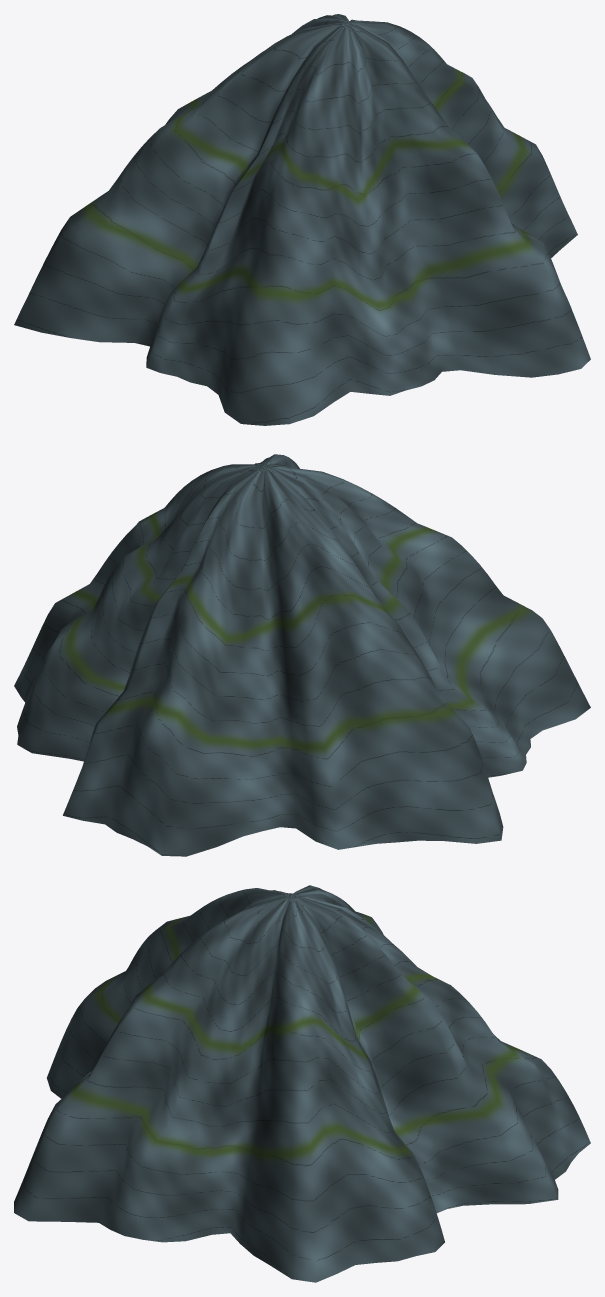
The model's file is terraced_mountain.glb.
The picture shows the model from 3 angles, top to bottom: view 1: azimuth 30°, elevation 25°; view 2: azimuth 150°, elevation 25°; view 3: azimuth 270°, elevation 25°; orthographic projection.
Visible parts, largest first — view 1: Cliff; view 2: Cliff; view 3: Cliff.
Boxes of the visible parts, box(x1,y1,x2,y2) form: Cliff: box(14, 14, 590, 425); Cliff: box(14, 454, 590, 856); Cliff: box(14, 885, 590, 1282).
Size of the model in its own units: 51.28 by 25 by 48.77.
Materials: 1 (1 with a texture image).
